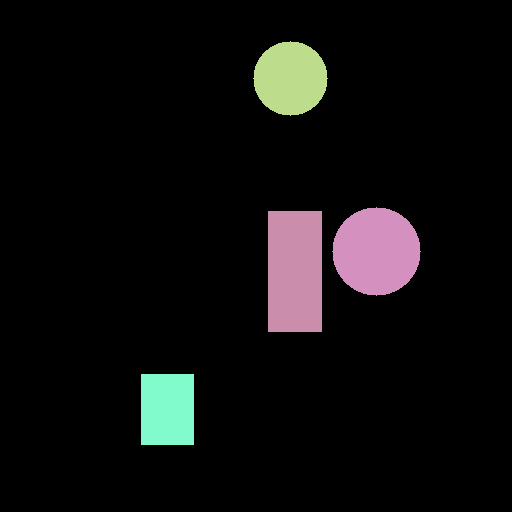circle: (332, 207, 420, 295), (253, 41, 327, 115)
rectangle: (268, 211, 321, 331), (141, 374, 193, 444)
